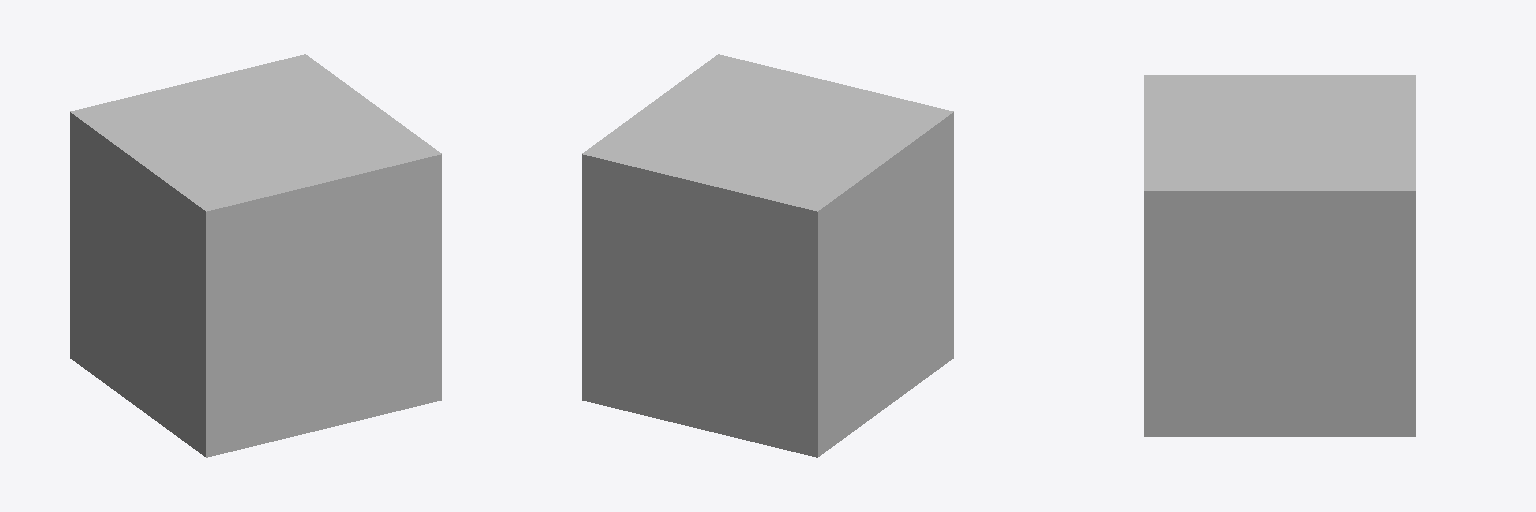
The model's file is psd_flipped.obj.
3 views of the same model, side by side, from view 1: azimuth 30°, elevation 25°; view 2: azimuth 150°, elevation 25°; view 3: azimuth 270°, elevation 25° (orthographic).
Visible parts, largest first — view 1: cube, cube.001; view 2: cube, cube.001; view 3: cube, cube.001.
Part boxes in pixels (left/top/right/bottom): cube: left=70, top=112, right=441, bottom=457; cube.001: left=70, top=54, right=441, bottom=210; cube: left=582, top=112, right=953, bottom=457; cube.001: left=582, top=54, right=953, bottom=210; cube: left=1144, top=190, right=1415, bottom=436; cube.001: left=1144, top=75, right=1415, bottom=189.
Bounding box in the file's own units: 1 × 1 × 1.